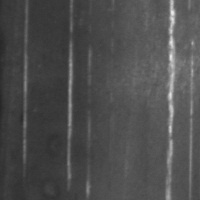scratches: (162, 0, 180, 199), (61, 0, 79, 185), (19, 0, 32, 177)
